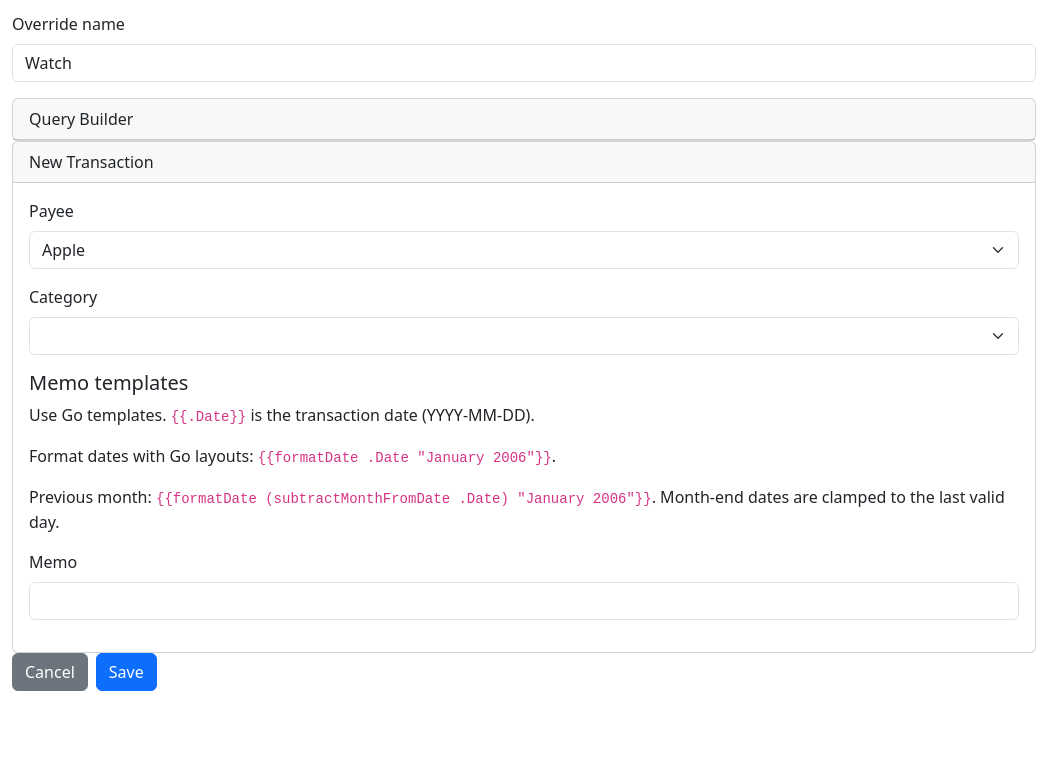
Test: uses a single form and shows server failures
Click the button "Save".
click(126, 672)  # box x1=96 y1=653 x2=157 y2=691
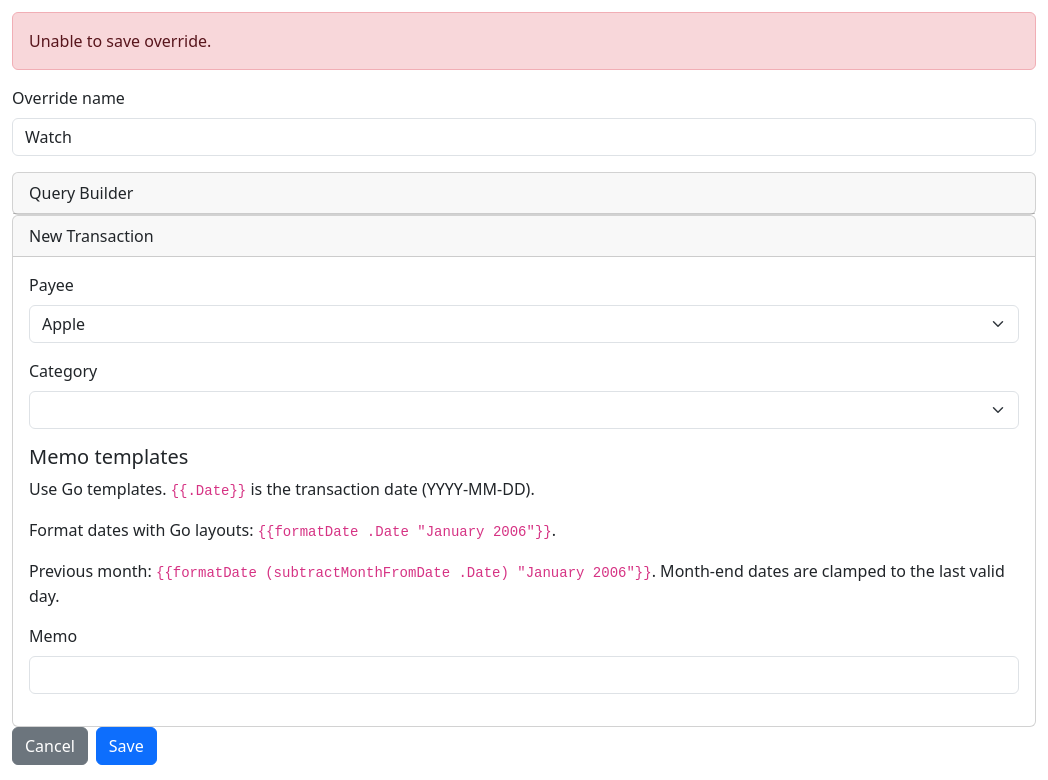
Check: the button "Save" is enabled, box x1=96 y1=727 x2=157 y2=765
Check: the message reads "Unable to save override.", box x1=29 y1=30 x2=211 y2=52
